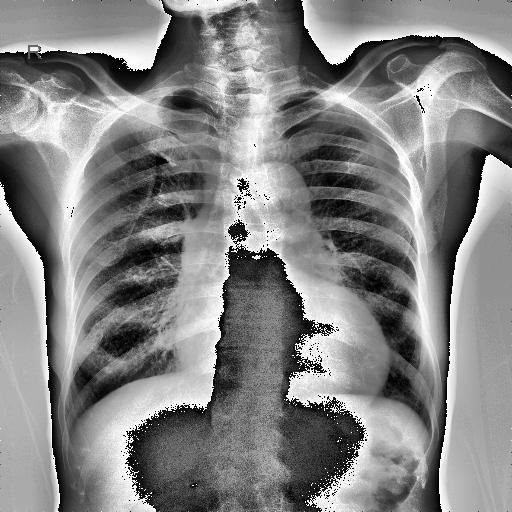0- Aortic enlargement: (241, 160, 314, 234), (254, 162, 316, 236), (240, 162, 310, 222)
3- Cardiomegaly: (172, 298, 390, 406), (173, 297, 391, 404), (175, 302, 390, 402)
